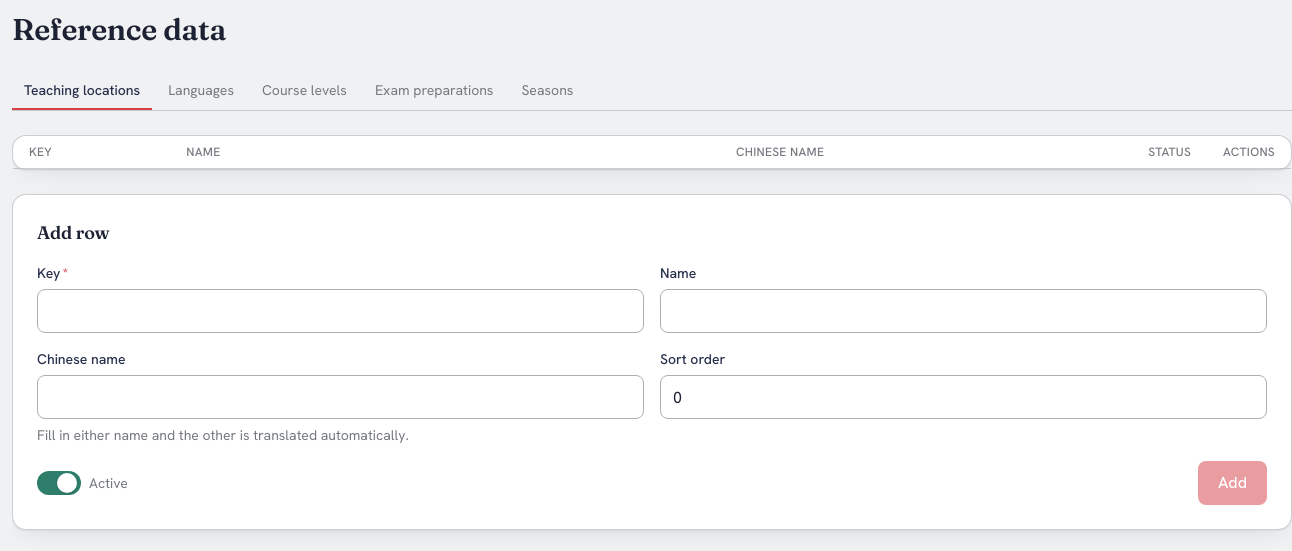
Test: ReferenceManagerPage seasons › shows an empty list
What coordinates should you click on to do the following:
click the button "Seasons"
I would click on:
 (547, 91)
Its box is 510,72 -> 585,110.
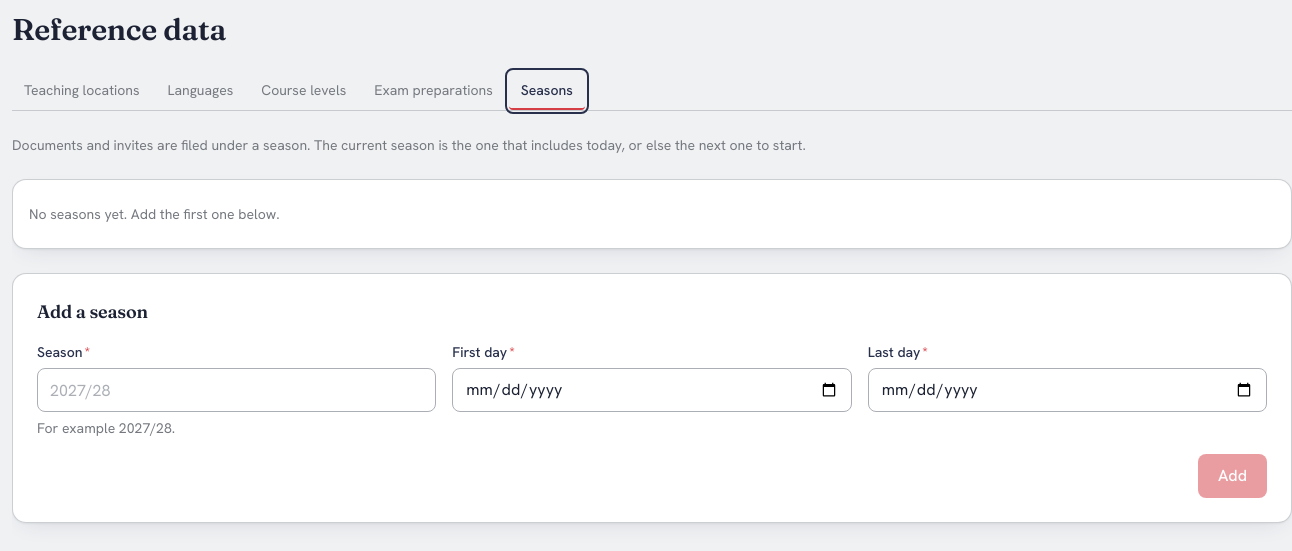
Check: the text "No seasons yet. Add the first one below." is shown, box 29,205 -> 280,223
